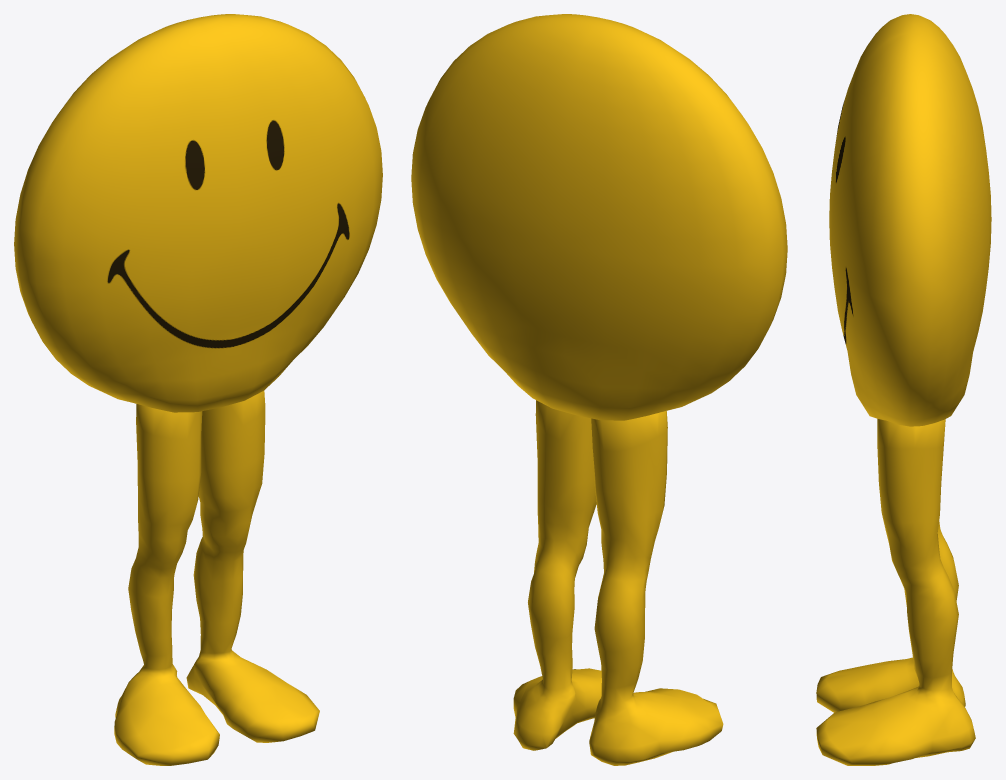
File: smiley.obj
3 views of the same model, side by side, from view 1: azimuth 30°, elevation 25°; view 2: azimuth 150°, elevation 25°; view 3: azimuth 270°, elevation 25° (orthographic). The views are drawn at different scales.
Parts seen in each view (by area): view 1: 0; view 2: 0; view 3: 0.
Part boxes in pixels (x1,y1,x2,y2): 0: [14, 14, 382, 765]; 0: [411, 14, 787, 765]; 0: [816, 14, 991, 765].
Bounding box in the file's own units: 1.08 × 2.02 × 0.4609.
1 material, 1 textured.
